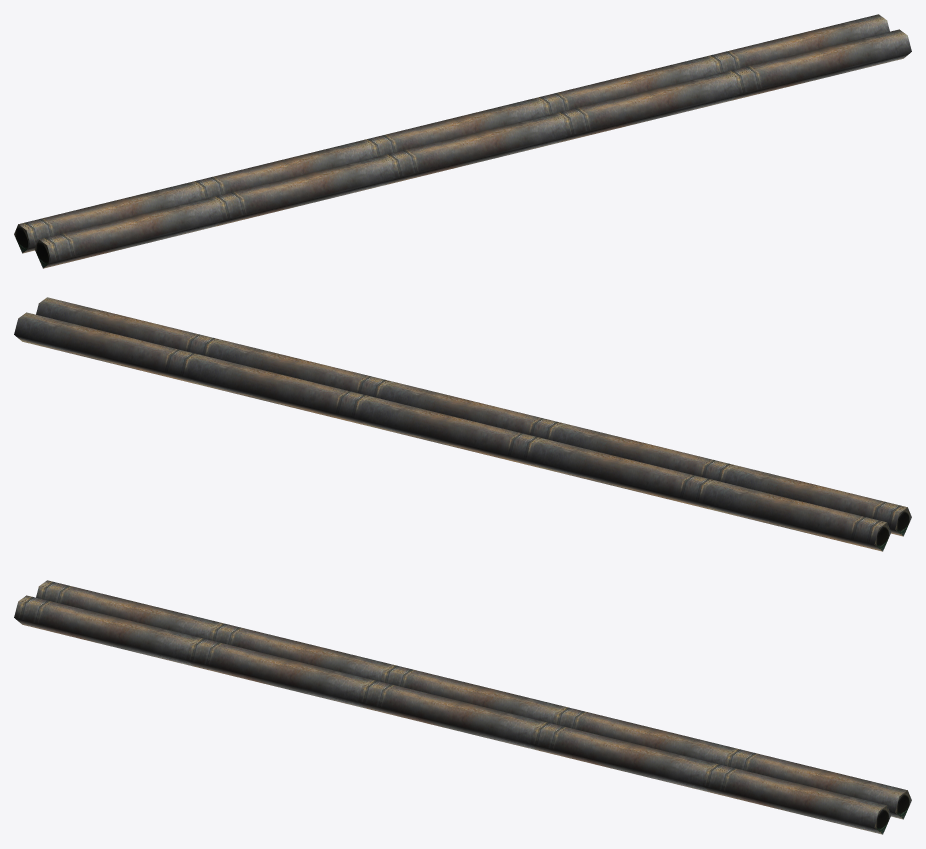
The model's file is leinabaobianyuan_tieguan01.FBX.
3 views of the same model, one above another, from view 1: azimuth 30°, elevation 25°; view 2: azimuth 150°, elevation 25°; view 3: azimuth 330°, elevation 25° (orthographic).
Parts seen in each view (by area): view 1: leinabaobianyuan_tieguan01; view 2: leinabaobianyuan_tieguan01; view 3: leinabaobianyuan_tieguan01.
Boxes of the visible parts, box(x1,y1,x2,y2) form: leinabaobianyuan_tieguan01: box(14, 14, 911, 268); leinabaobianyuan_tieguan01: box(14, 297, 911, 551); leinabaobianyuan_tieguan01: box(14, 580, 911, 834).
Bounding box in the file's own units: 1242 × 36.28 × 93.53.
